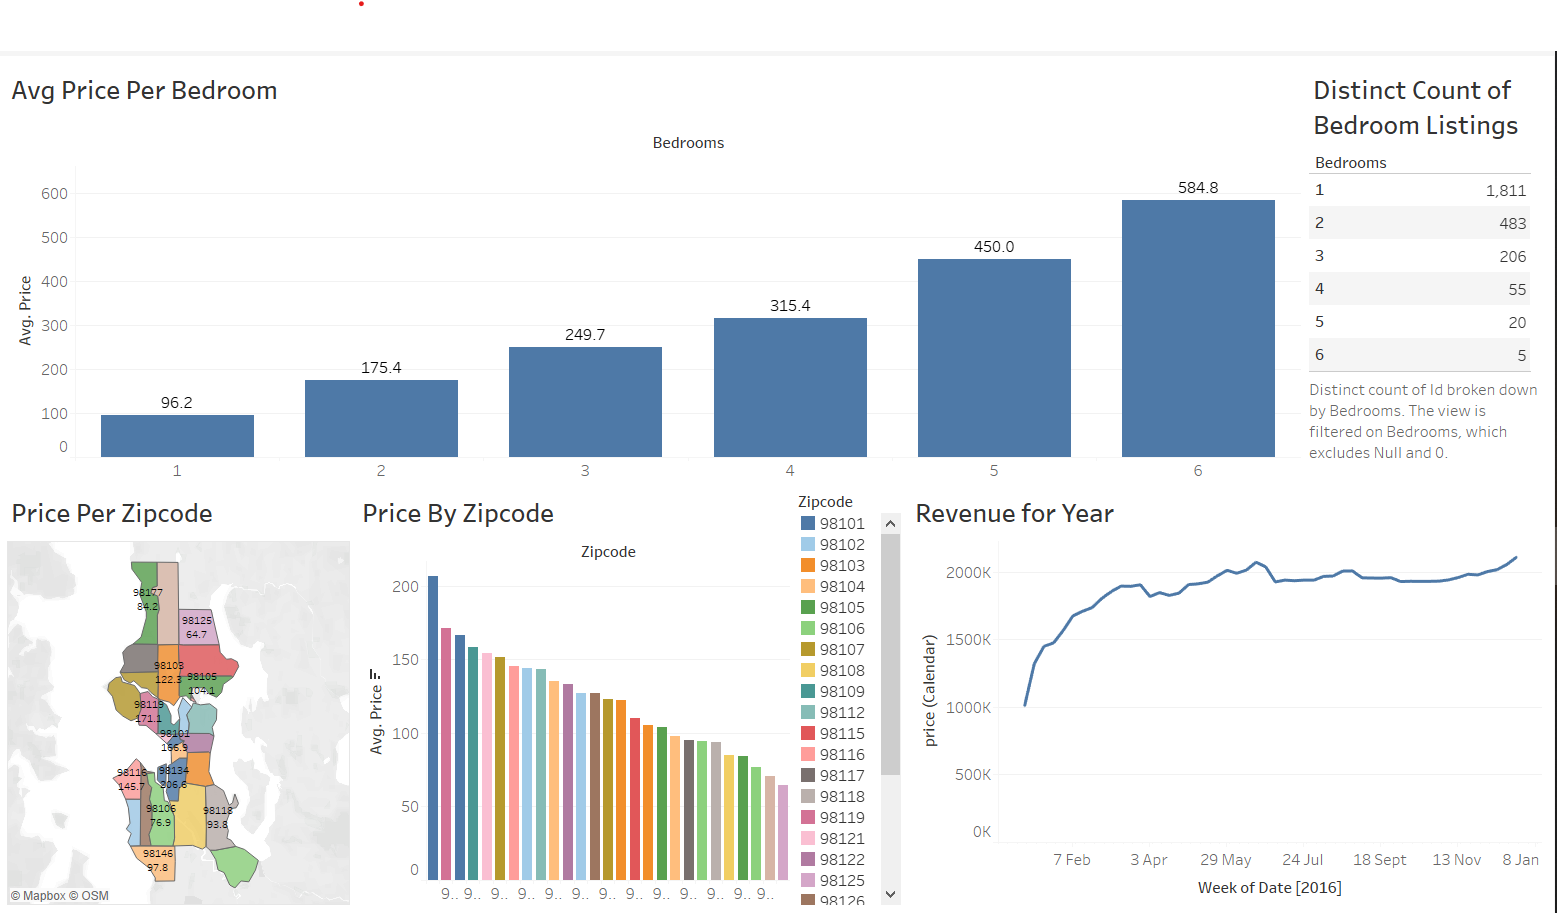

What the dashboard file says about the page in this screenshot:
{"tool":"tableau","page":{"name":"Dashboard 1","canvas":[1000,1000],"units":"permille","ordinal":0},"visuals":[{"type":"worksheet","title":"Sheet 4","mark":"Automatic","rows":["price"],"cols":["bedrooms"],"box":[5.1,9.3,835.1,490.7]},{"type":"worksheet","title":"Sheet 5","mark":"Automatic","rows":["bedrooms"],"box":[840.3,9.3,154.6,490.7]},{"type":"worksheet","title":"Sheet 2","mark":"Multipolygon","box":[5.1,500,225.2,490.7]},{"type":"worksheet","title":"Sheet 1","mark":"Automatic","rows":["price"],"cols":["zipcode"],"box":[230.3,500,282.2,490.7]},{"type":"legend","title":"Sheet 1","param":"[federated.1yuuuzk05d89qd1gdt1d61elzror].[none:zipcode:ok]","box":[512.5,500,72.5,490.7]},{"type":"worksheet","title":"Sheet 3","mark":"Automatic","rows":["price (Calendar)"],"cols":["date"],"box":[585,500,409.9,490.7]}]}

Visuals, with their boxes on the dashboard's canvas, which has no fixed pixel size, in thousandths of its width and height (x1, y1, x2, y2). These are canvas units, not pixel positions in the 1557x913 screenshot, which may show the page scaled, cropped or inside an application window:
"Sheet 4" worksheet: x1=5 y1=9 x2=840 y2=500
"Sheet 5" worksheet: x1=840 y1=9 x2=995 y2=500
"Sheet 2" worksheet (Multipolygon marks): x1=5 y1=500 x2=230 y2=991
"Sheet 1" worksheet: x1=230 y1=500 x2=512 y2=991
"Sheet 1" legend: x1=512 y1=500 x2=585 y2=991
"Sheet 3" worksheet: x1=585 y1=500 x2=995 y2=991
